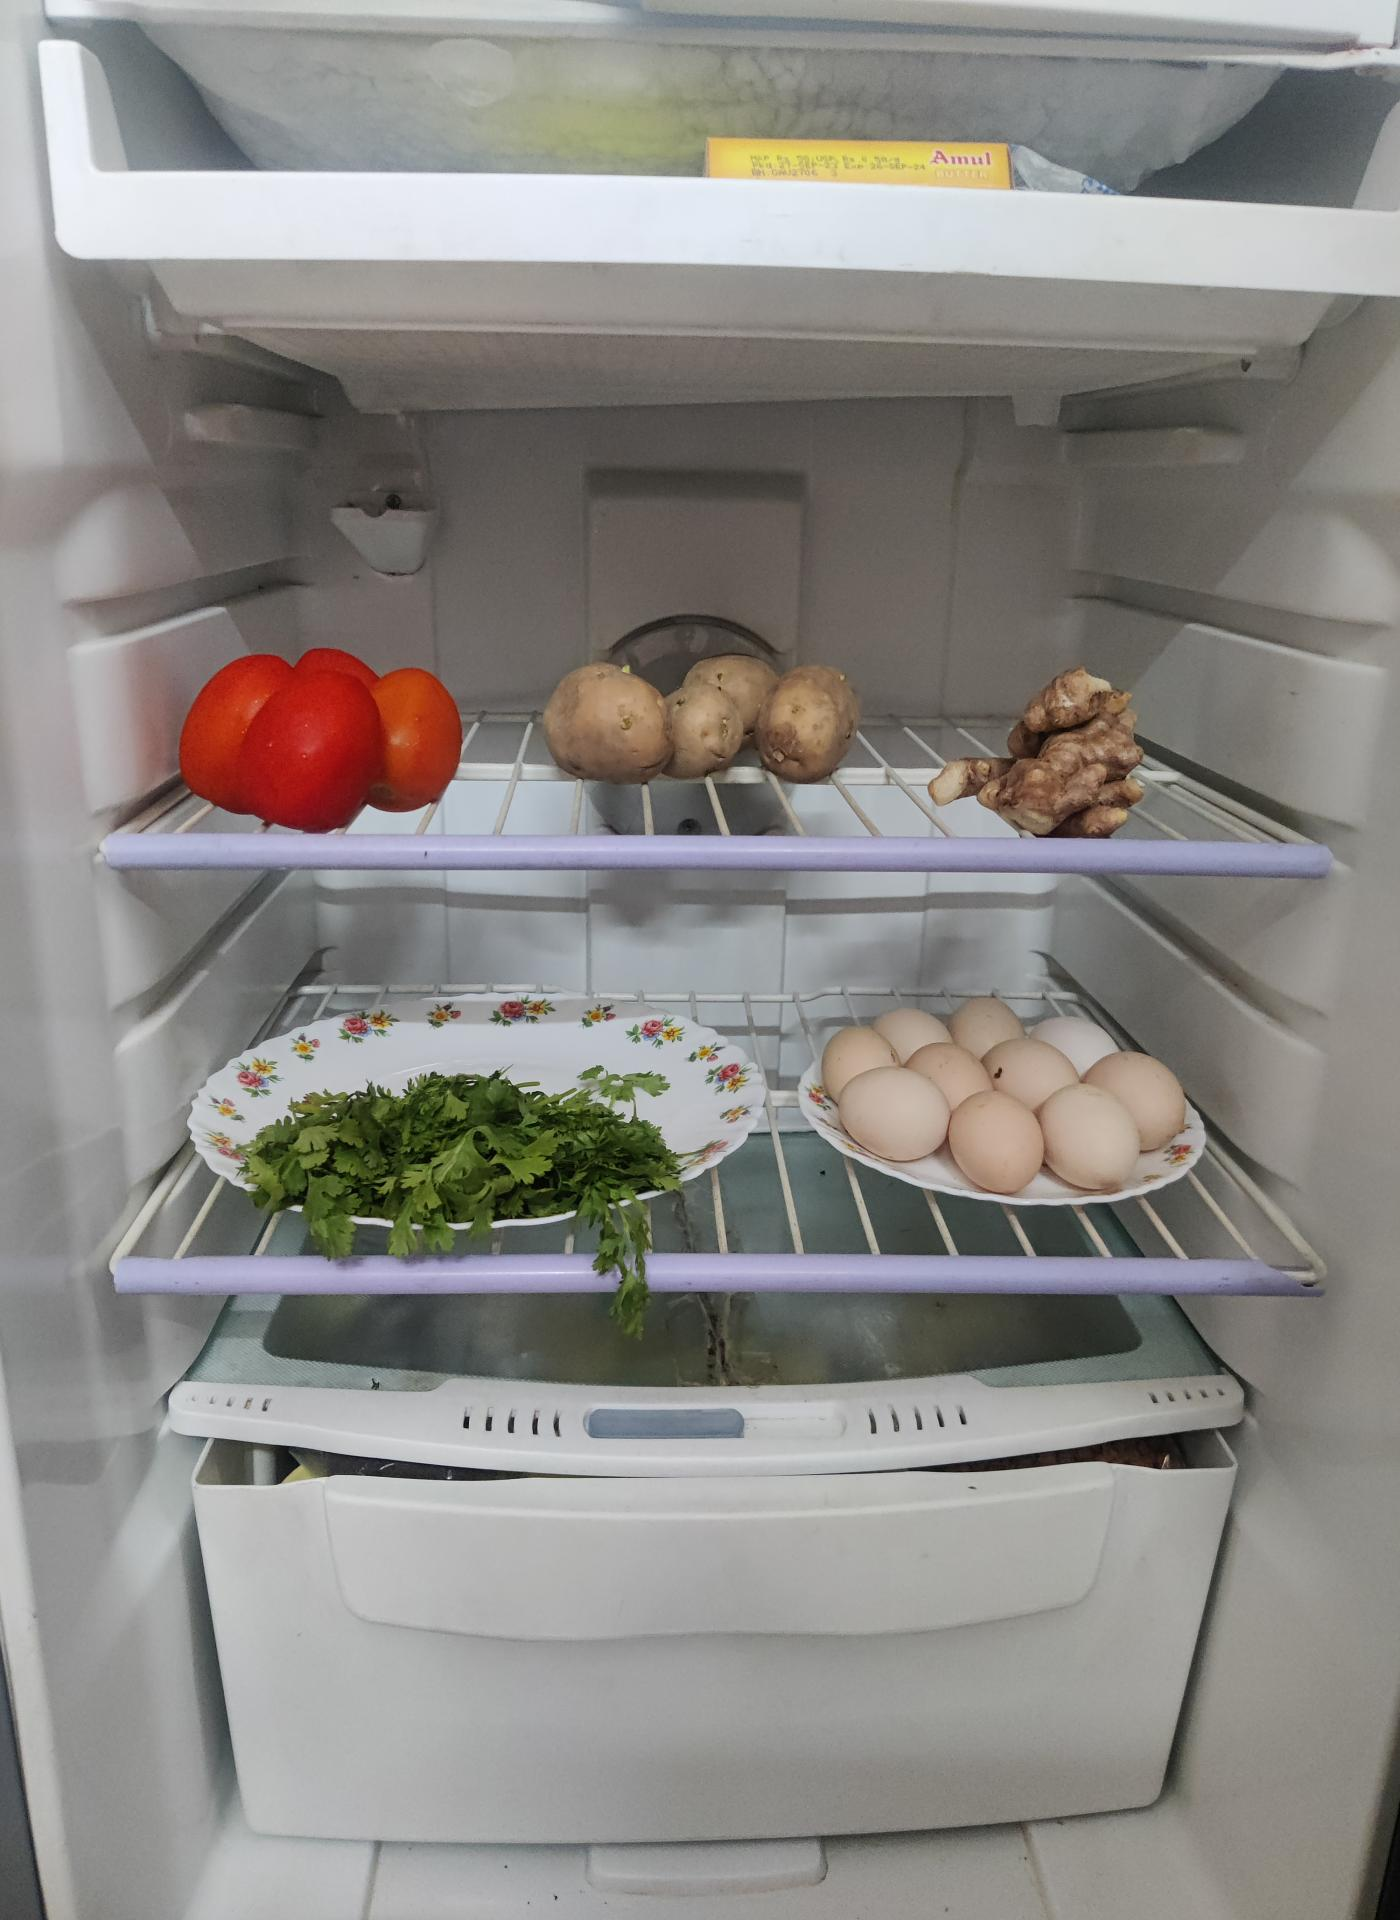coriander: (225, 1067, 686, 1242)
egg: (816, 1012, 1197, 1218)
ginger: (942, 663, 1151, 835)
potato: (541, 645, 863, 778)
tomato: (182, 640, 465, 823)
